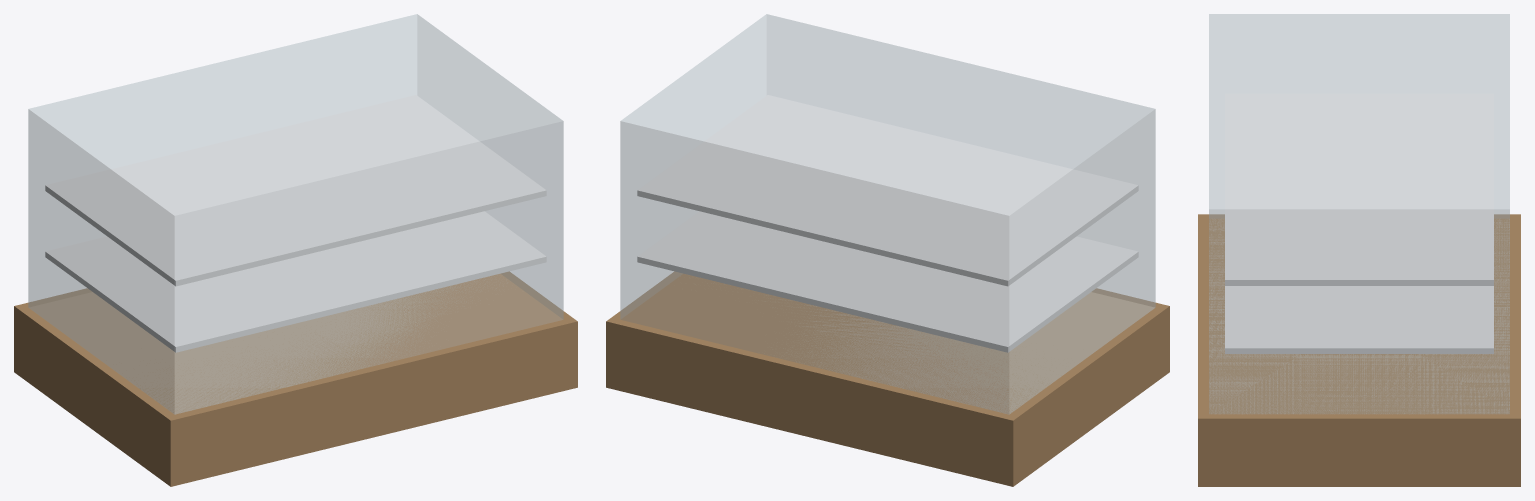
File: PastryDisplayCase.glb
3 renders of one model, left to right at view 1: azimuth 30°, elevation 25°; view 2: azimuth 150°, elevation 25°; view 3: azimuth 270°, elevation 25°, orthographic. The views are drawn at different scales.
Parts seen in each view (by area): view 1: PastryDisplayCase; view 2: PastryDisplayCase; view 3: PastryDisplayCase.
Part boxes in pixels (<box>): PastryDisplayCase: <box>14,14,577,486</box>; PastryDisplayCase: <box>606,14,1169,486</box>; PastryDisplayCase: <box>1198,14,1520,486</box>.
Bounding box in the file's own units: 0.9 × 0.56 × 0.6.
